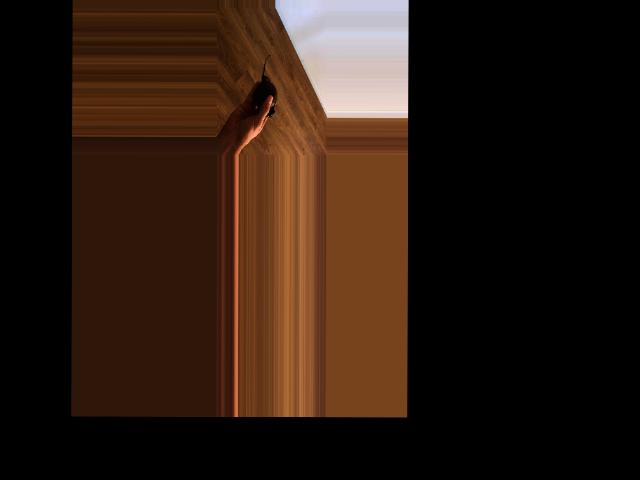beet: (254, 54, 277, 117)
